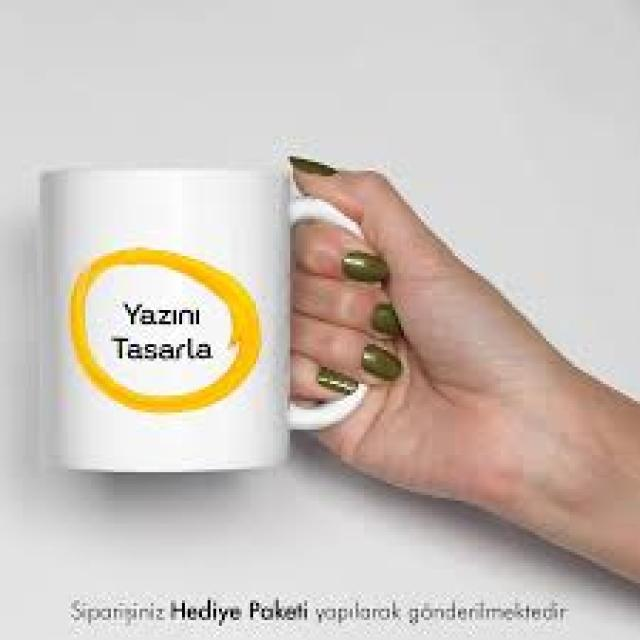taza: (39, 166, 389, 473)
